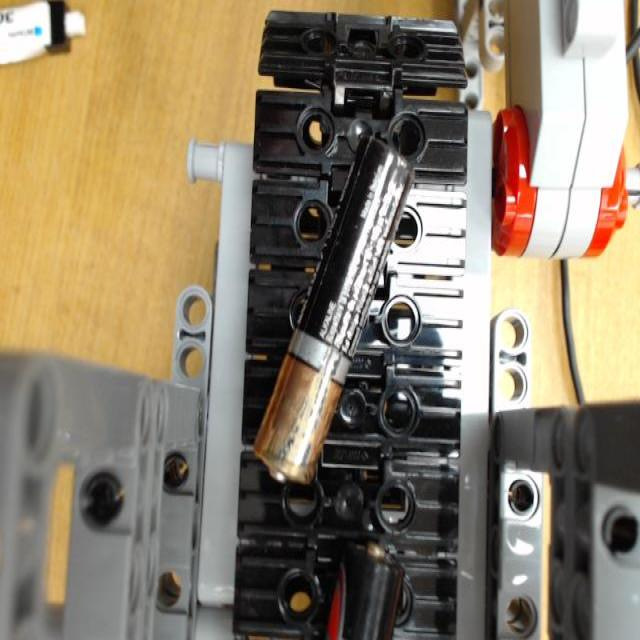AAA: (242, 135, 413, 488), (328, 548, 400, 640)
